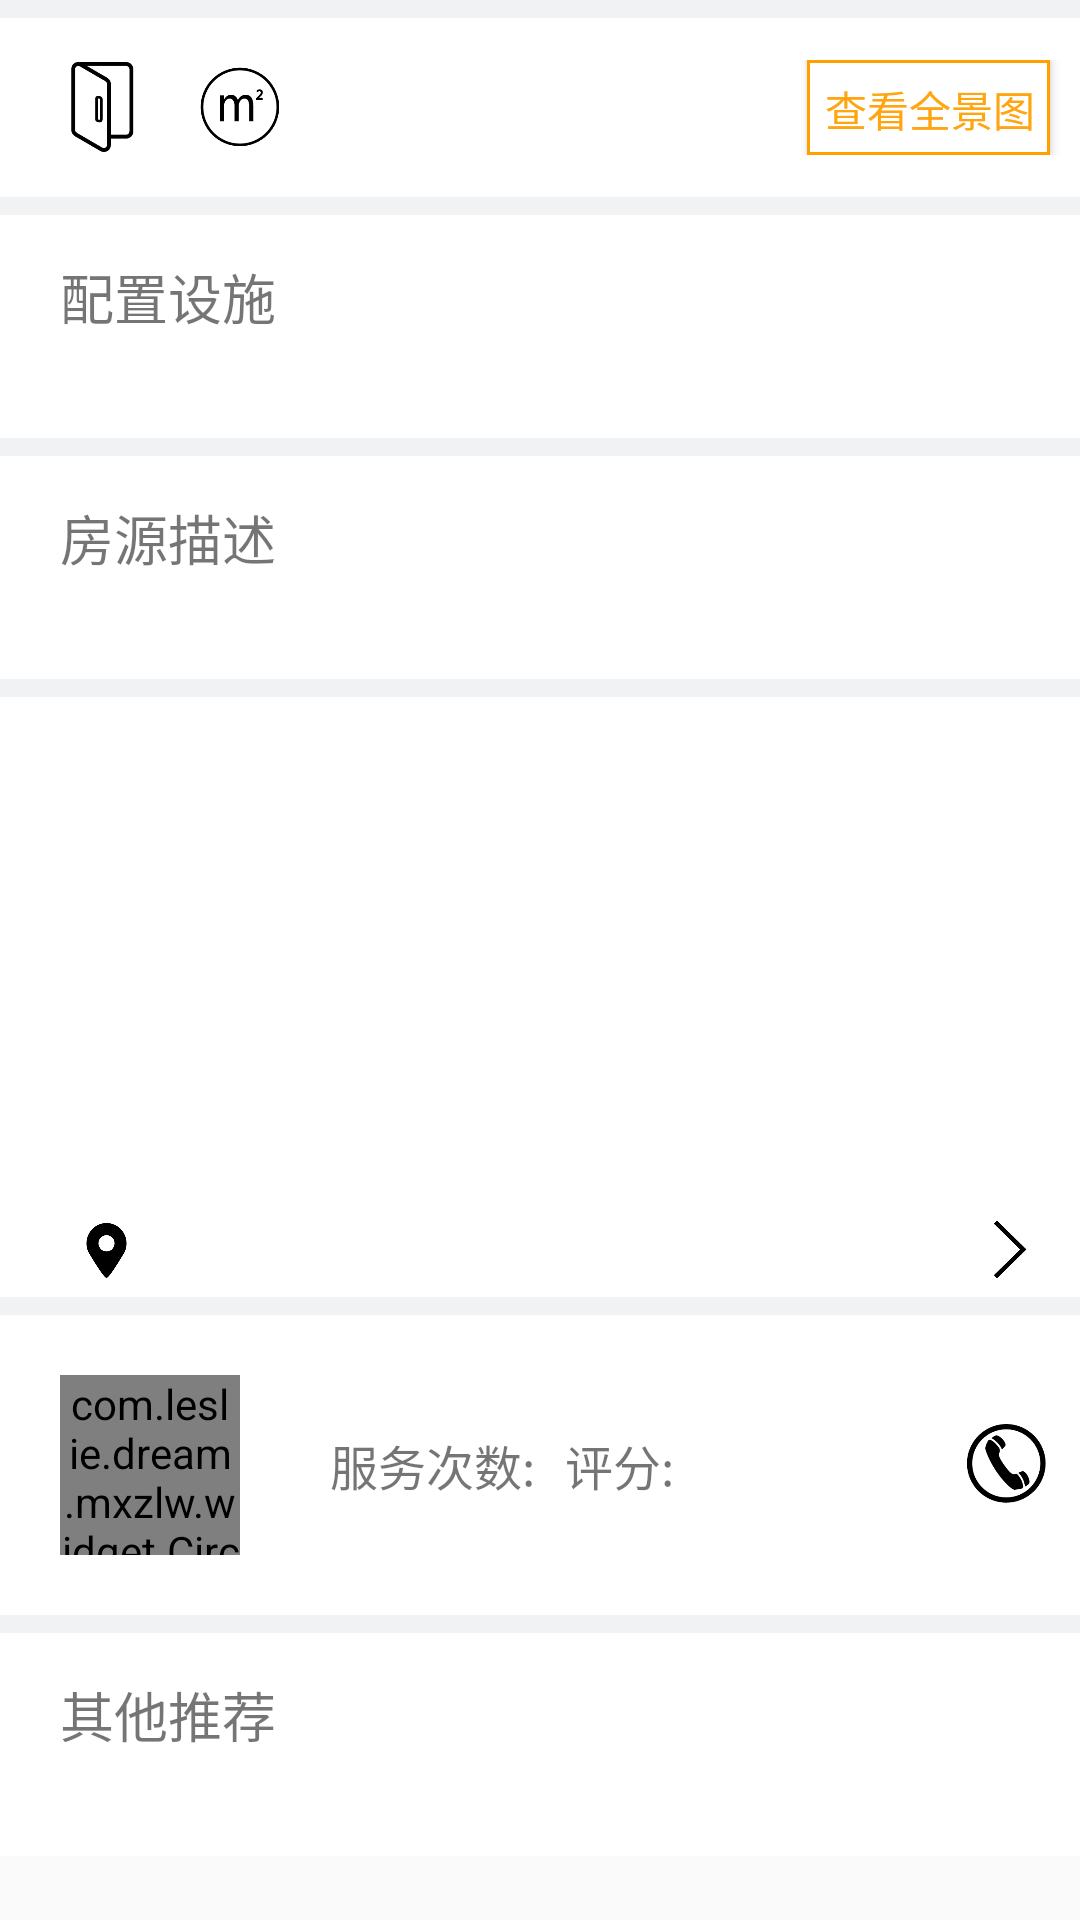

Where to tap for icons on this 1080x1920 app screen, as (x=x, y=y):
house room: (x=102, y=107)
house size: (x=239, y=106)
right arrow: (x=1010, y=1249)
steward phone: (x=1006, y=1463)
